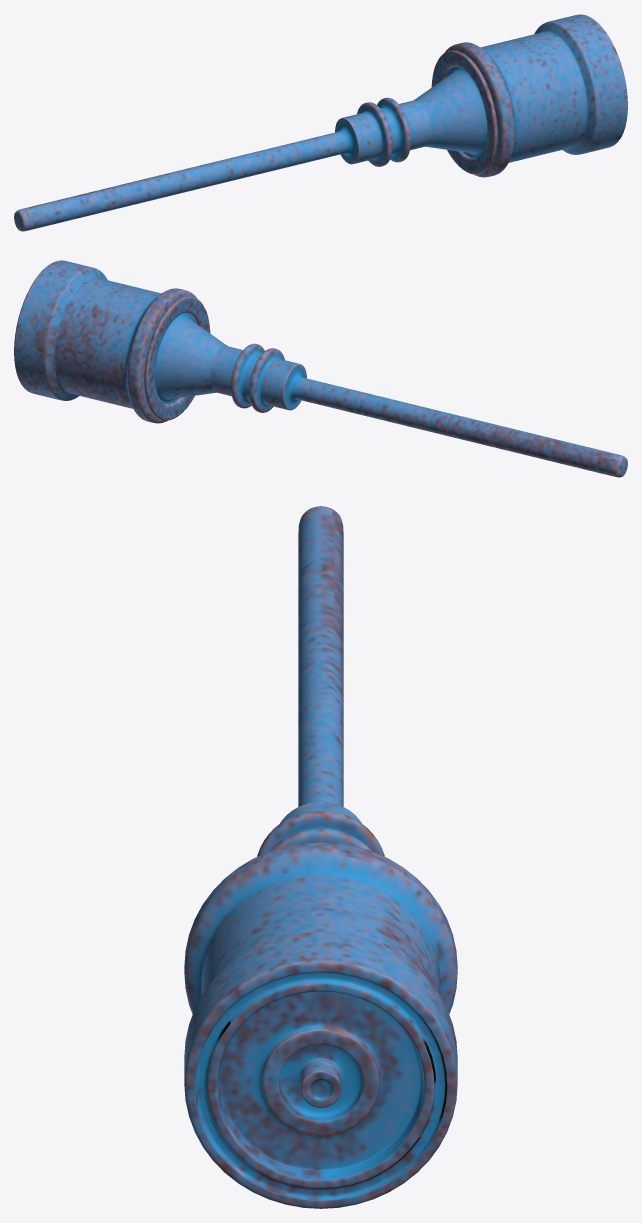
3 views of the same model, one above another, from view 1: azimuth 30°, elevation 25°; view 2: azimuth 150°, elevation 25°; view 3: azimuth 270°, elevation 25° (orthographic). The views are drawn at different scales.
Visible parts, largest first — view 1: Cylinder.016; view 2: Cylinder.016; view 3: Cylinder.016.
Part boxes in pixels (x1,y1,x2,y2): Cylinder.016: [14, 14, 627, 231]; Cylinder.016: [14, 260, 627, 477]; Cylinder.016: [184, 506, 457, 1208].
Bounding box in the file's own units: 3.48 × 0.7101 × 0.7101.
Materials: 1 (1 with a texture image).
